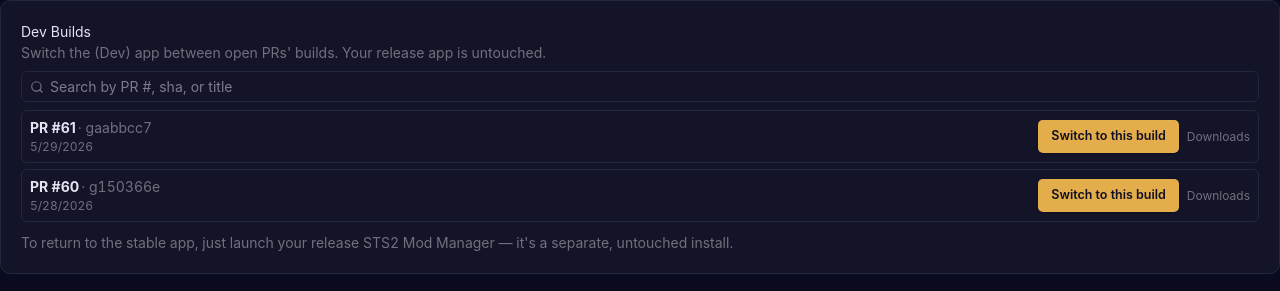
Test: DevBuildsCard › search filters the list by PR number
The width and height of the screenshot is (1280, 291).
Check: the text "PR #61" is shown, box [30,117,76,138]
Type "60" into the field labelled "Search by PR #, sha, or title". click: (650,86)
box: [50,76,1250,97]
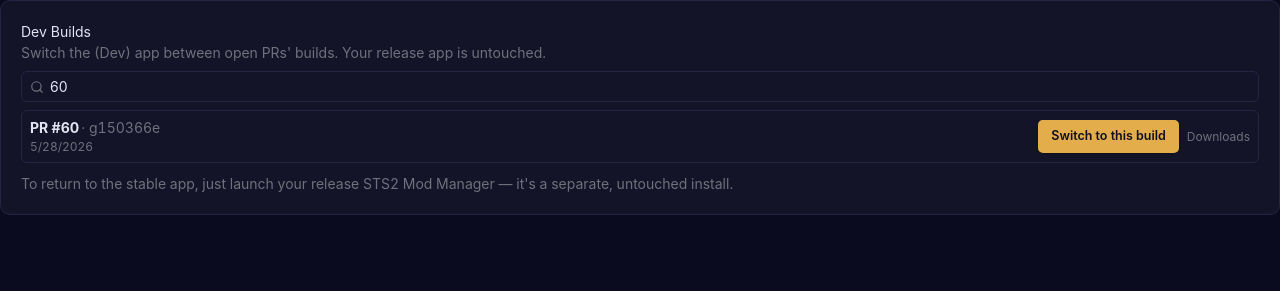
Check: the text "PR #60" is shown, box [30,117,79,138]
Check: the text "PR #61" is gone
